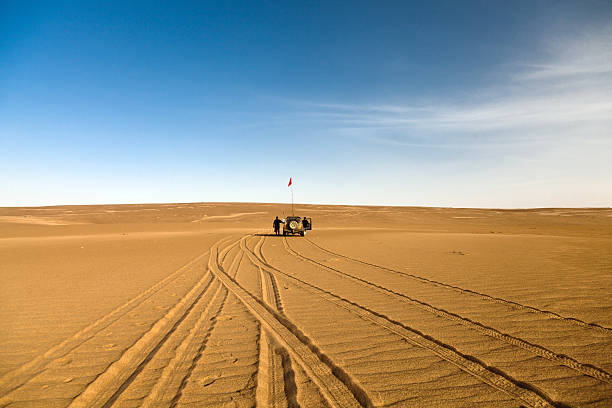vehicle_track: (247, 251, 561, 406), (283, 239, 611, 383), (0, 250, 208, 401), (305, 238, 611, 333), (209, 245, 369, 406), (69, 273, 212, 407)
